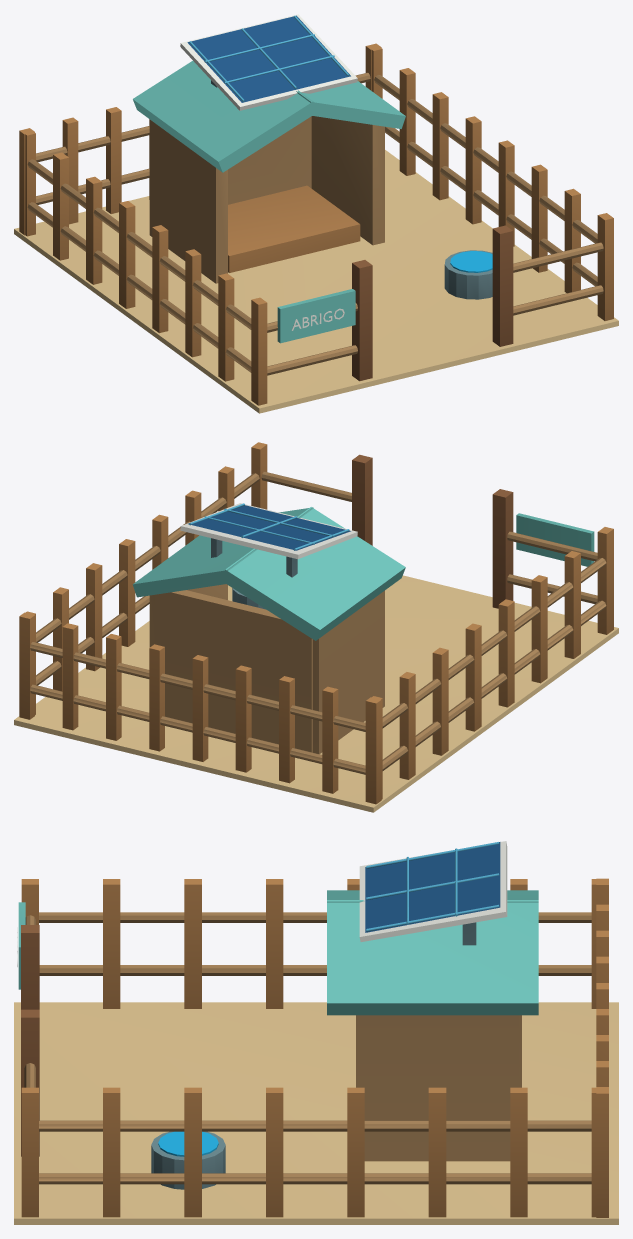
File: wildlife-shelter.glb
3 views of the same model, one above another, from view 1: azimuth 30°, elevation 25°; view 2: azimuth 150°, elevation 25°; view 3: azimuth 270°, elevation 25° (orthographic). The views are drawn at different scales.
Visible parts, largest first — view 1: wildlife shelter pad, enclosure picket, enclosure rail, pitched shelter roof, photovoltaic cells, access gate jamb, sign ABRIGO, water bowl, solar cell division, drinking water; view 2: enclosure rail, enclosure picket, wildlife shelter pad, pitched shelter roof, access gate jamb, photovoltaic cells, sign ABRIGO, solar cell division, water bowl; view 3: wildlife shelter pad, enclosure rail, enclosure picket, pitched shelter roof, photovoltaic cells, access gate jamb, sign ABRIGO, water bowl, solar cell division, drinking water.
Part boxes in pixels (left/top/right/bottom): wildlife shelter pad: left=14, top=150, right=618, bottom=413; enclosure picket: left=19, top=43, right=613, bottom=405; enclosure rail: left=27, top=72, right=603, bottom=375; pitched shelter roof: left=133, top=61, right=405, bottom=343; photovoltaic cells: left=187, top=15, right=350, bottom=102; access gate jamb: left=352, top=225, right=513, bottom=381; sign ABRIGO: left=180, top=14, right=357, bottom=330; water bowl: left=211, top=80, right=492, bottom=299; solar cell division: left=189, top=15, right=349, bottom=101; drinking water: left=450, top=251, right=492, bottom=272; enclosure rail: left=30, top=471, right=606, bottom=774; enclosure picket: left=19, top=442, right=613, bottom=804; wildlife shelter pad: left=14, top=575, right=618, bottom=812; pitched shelter roof: left=132, top=507, right=594, bottom=640; access gate jamb: left=352, top=454, right=513, bottom=608; photovoltaic cells: left=188, top=505, right=350, bottom=550; sign ABRIGO: left=180, top=503, right=357, bottom=559; solar cell division: left=189, top=503, right=349, bottom=550; water bowl: left=211, top=538, right=297, bottom=609; wildlife shelter pad: left=14, top=1002, right=618, bottom=1224; enclosure rail: left=24, top=912, right=591, bottom=1184; enclosure picket: left=21, top=878, right=608, bottom=1217; pitched shelter roof: left=18, top=890, right=538, bottom=1015; photovoltaic cells: left=365, top=842, right=500, bottom=932; access gate jamb: left=21, top=925, right=39, bottom=1156; sign ABRIGO: left=17, top=841, right=507, bottom=966; water bowl: left=151, top=922, right=476, bottom=1189; solar cell division: left=366, top=842, right=499, bottom=931; drinking water: left=158, top=1131, right=218, bottom=1156.
Bounding box in the file's own units: 2.2 × 1.15 × 2.6.
